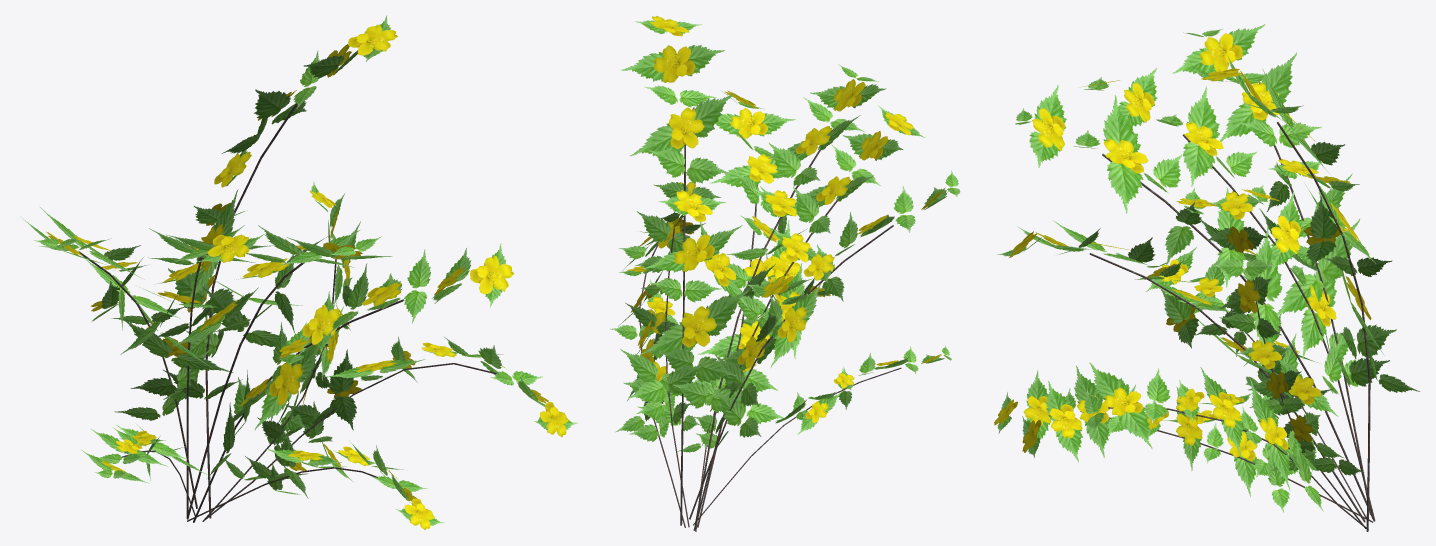
File: yamabuki_nocolor.fbx
3 renders of one model, left to right at view 1: azimuth 30°, elevation 25°; view 2: azimuth 150°, elevation 25°; view 3: azimuth 270°, elevation 25°, orthographic. The views are drawn at different scales.
Parts seen in each view (by area): view 1: y848.001, y848.025, y848.004, y848.003, y848.008, y848.007, y848.005, y848.006, y848.002; view 2: y848.025, y848.004, y848.008, y848.001, y848.005, y848.006, y848.003, y848.002, y848.007; view 3: y848.003, y848.008, y848.004, y848.005, y848.006, y848.025, y848.007, y848.001, y848.002.
Boxes of the visible parts, x1,y1,x2,y2 form: y848.001: (193, 243, 514, 522); y848.025: (163, 15, 397, 518); y848.004: (114, 225, 273, 519); y848.003: (206, 336, 577, 519); y848.008: (172, 225, 392, 518); y848.007: (187, 430, 444, 529); y848.005: (20, 206, 214, 508); y848.006: (202, 181, 360, 521); y848.002: (81, 424, 208, 515); y848.025: (621, 16, 750, 525); y848.004: (693, 105, 925, 530); y848.008: (695, 64, 886, 529); y848.001: (694, 90, 795, 527); y848.005: (689, 170, 960, 519); y848.006: (620, 172, 720, 527); y848.003: (610, 211, 705, 527); y848.002: (693, 345, 951, 525); y848.007: (677, 278, 830, 531); y848.003: (1022, 362, 1368, 529); y848.008: (1015, 84, 1373, 520); y848.004: (1082, 67, 1375, 521); y848.005: (1172, 24, 1371, 514); y848.006: (1206, 191, 1365, 528); y848.025: (1191, 53, 1419, 531); y848.007: (994, 365, 1372, 522); y848.001: (997, 220, 1365, 522); y848.002: (1146, 247, 1366, 519).
Size of the model in its own units: 61.98 by 67.92 by 51.87.
Materials: 3 (3 with a texture image).
